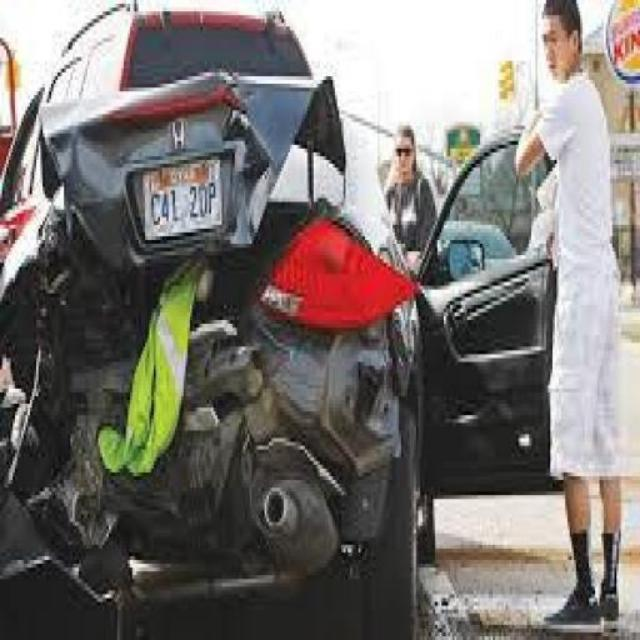dent: (3, 80, 400, 602)
